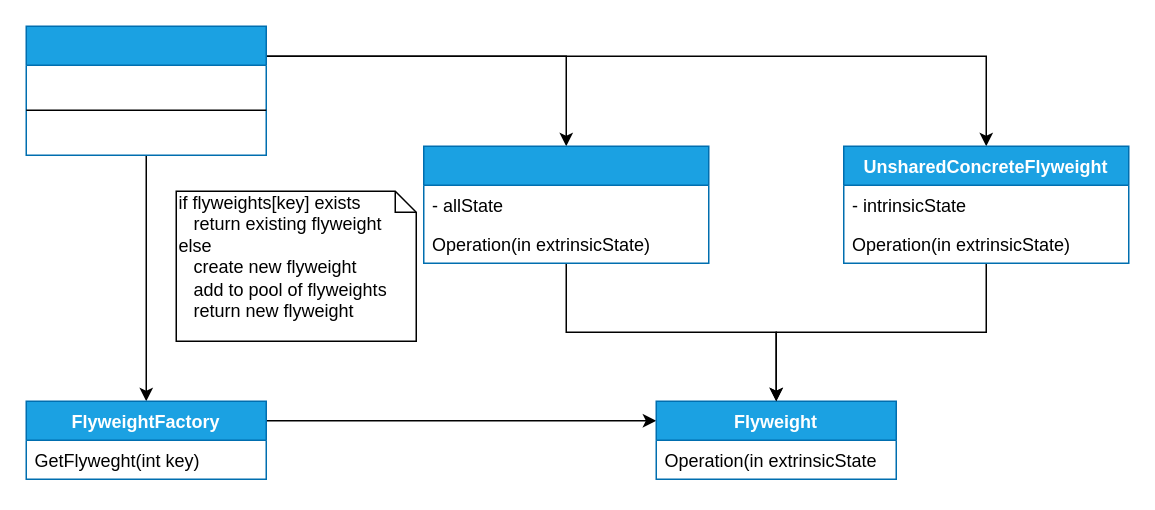
Some shapes in this 1155 by 510 pixel diagram are drawn without their labels. The box of each missing label's shape, as (x1, y1, x2, y2) in pixels:
Client: (25, 25, 266, 155)
ConcreteFlyweight: (422, 145, 709, 263)
